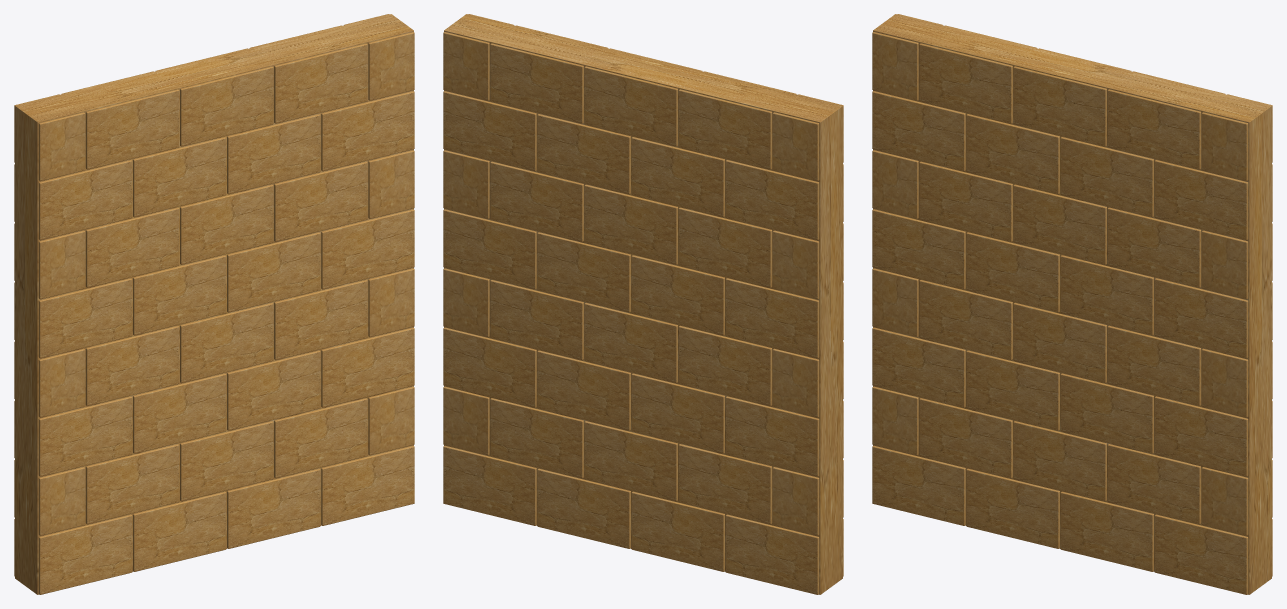
File: SM_MoleControlV2_StoneWall200.fbx
3 renders of one model, left to right at view 1: azimuth 30°, elevation 25°; view 2: azimuth 150°, elevation 25°; view 3: azimuth 330°, elevation 25°, orthographic.
Parts seen in each view (by area): view 1: SM_MoleControlV2_StoneWall200; view 2: SM_MoleControlV2_StoneWall200; view 3: SM_MoleControlV2_StoneWall200.
Part boxes in pixels (x1=…): SM_MoleControlV2_StoneWall200: x1=14, y1=14, x2=414, y2=594; SM_MoleControlV2_StoneWall200: x1=443, y1=14, x2=843, y2=594; SM_MoleControlV2_StoneWall200: x1=872, y1=14, x2=1272, y2=594.
Size of what is drawn, in the model's own units: 200 by 24 by 240.
